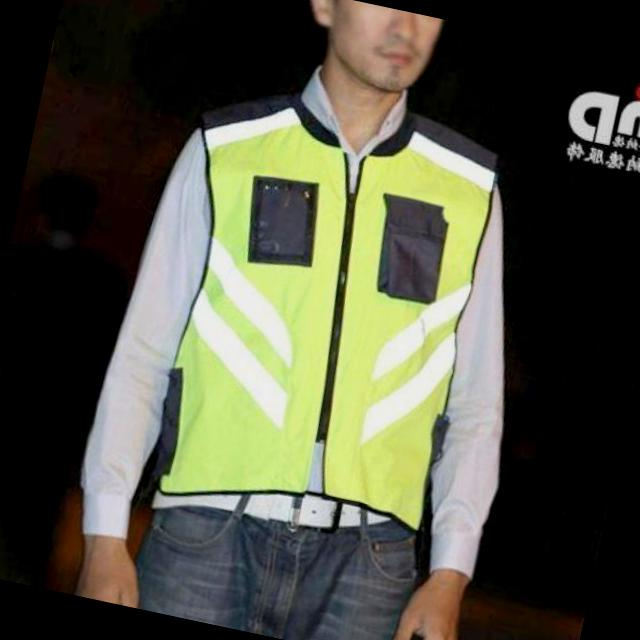vest: (130, 84, 507, 542)
